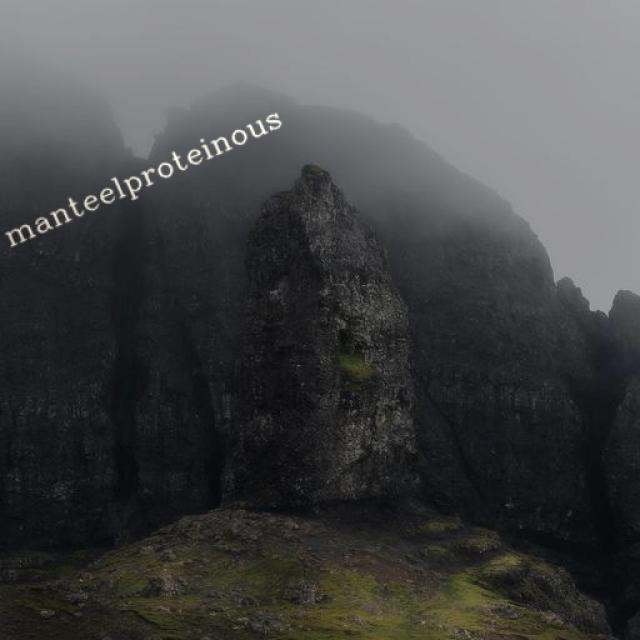watermark: (1, 101, 283, 252)
